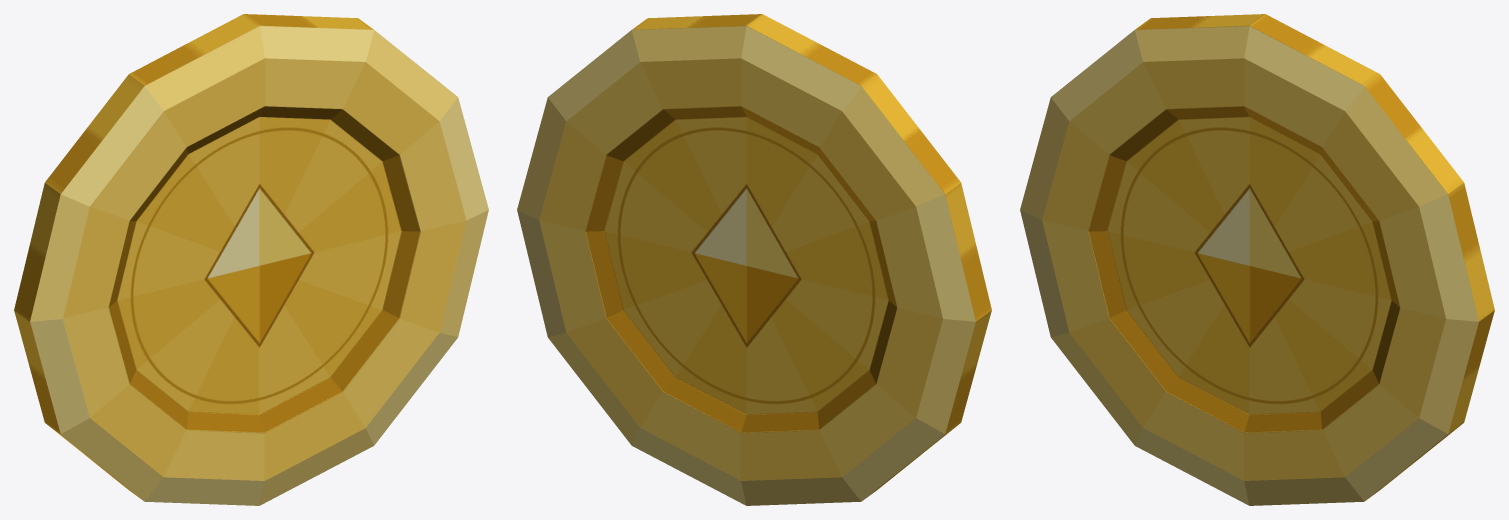
File: coin.obj
3 renders of one model, left to right at view 1: azimuth 30°, elevation 25°; view 2: azimuth 150°, elevation 25°; view 3: azimuth 330°, elevation 25°, orthographic.
Parts seen in each view (by area): view 1: Coin; view 2: Coin; view 3: Coin.
Part boxes in pixels (x1,y1,x2,y2): Coin: (14,14,488,505); Coin: (517,14,991,505); Coin: (1020,14,1494,505).
Size of the model in its own units: 1 by 1 by 0.1.
Materials: 1 (1 with a texture image).
